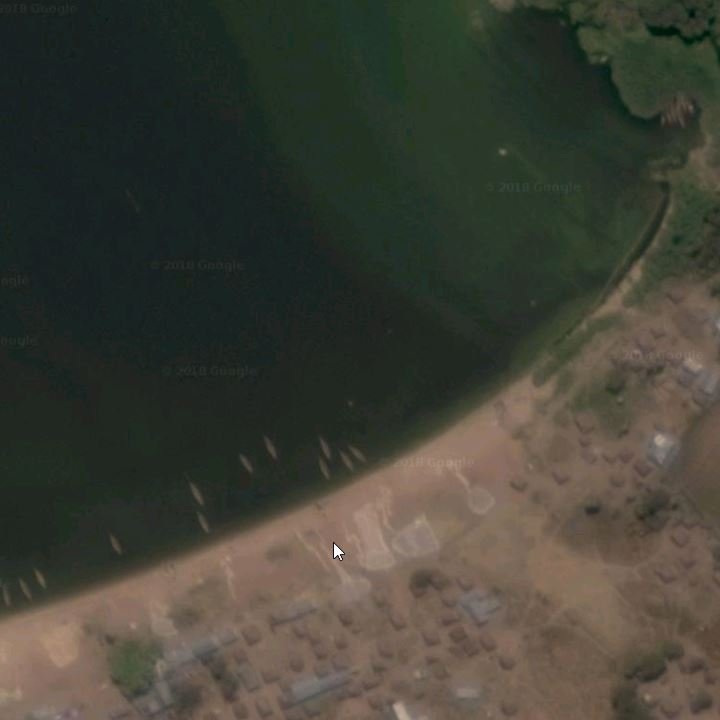boat: (230, 445, 258, 477), (183, 478, 210, 510), (347, 440, 376, 466), (17, 570, 37, 605), (107, 529, 128, 560), (31, 561, 51, 593), (193, 509, 215, 537), (259, 436, 281, 461), (313, 458, 333, 485), (315, 431, 333, 461), (335, 452, 357, 476), (3, 577, 16, 613), (674, 100, 688, 131), (682, 94, 695, 121), (680, 96, 691, 127), (663, 101, 673, 130), (657, 106, 666, 129)
